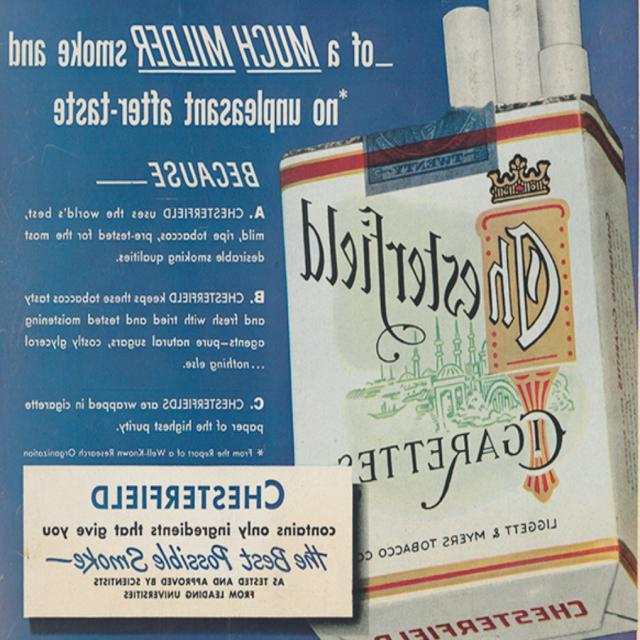chesterfield: (298, 105, 627, 640)
